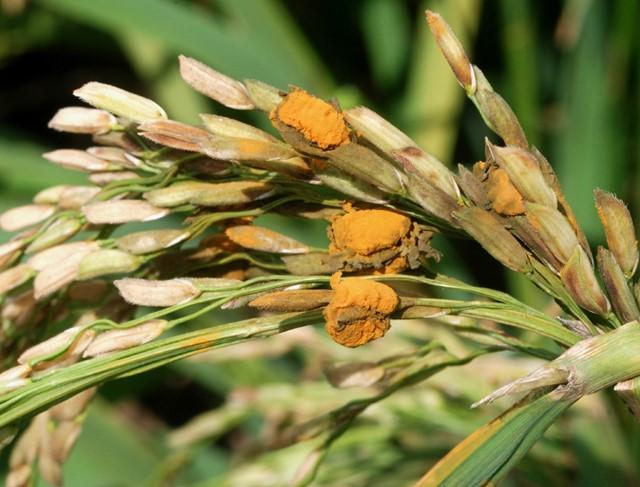False Smut: (320, 201, 444, 280), (266, 83, 369, 166), (468, 158, 565, 231), (324, 273, 405, 351), (201, 209, 276, 270)
